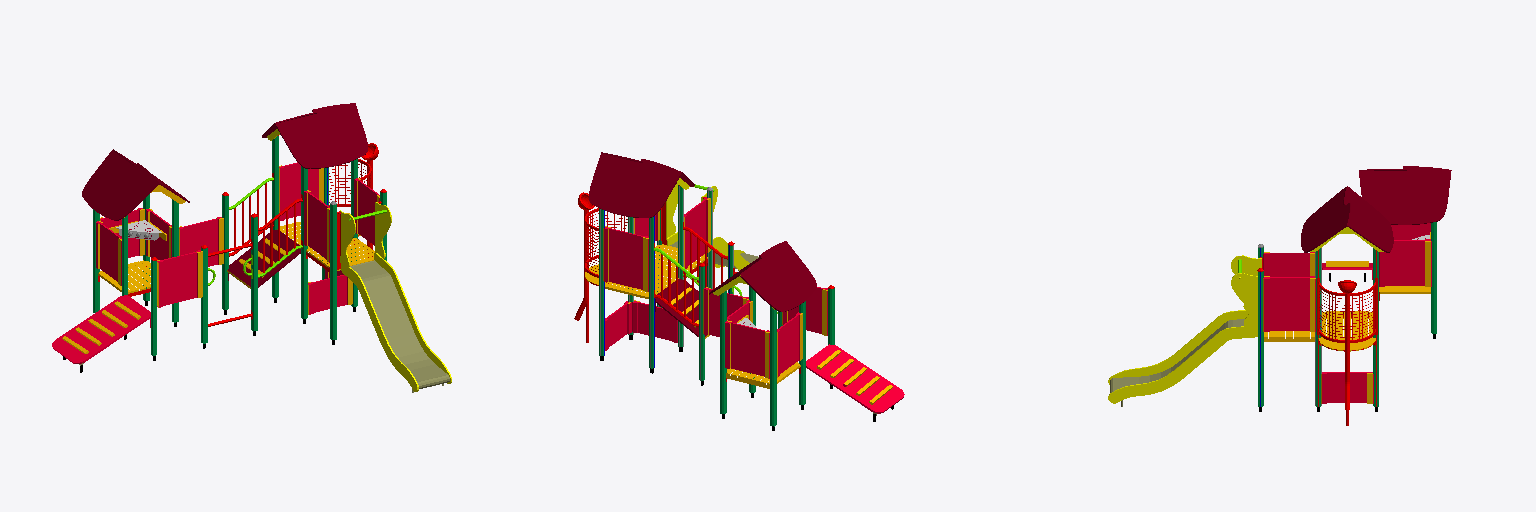
The model's file is playground.obj.
The picture shows the model from 3 angles: view 1: azimuth 30°, elevation 25°; view 2: azimuth 150°, elevation 25°; view 3: azimuth 270°, elevation 25°; orthographic projection.
Visible parts, largest first — view 1: Mesh12, Mesh115, Mesh34, Mesh17, Mesh16, Mesh49, Mesh13, Mesh46, Mesh86, Mesh24, Mesh94, Mesh111 (+13 smaller); view 2: Mesh114, Mesh34, Mesh17, Mesh49, Mesh18, Mesh86, Mesh24, Mesh94, Mesh16, Mesh46, Mesh13, Mesh93 (+8 smaller); view 3: Mesh53, Mesh12, Mesh111, Mesh14, Mesh115, Mesh114, Mesh93, Mesh51, Mesh86, Mesh65, Mesh44, Mesh43 (+2 smaller).
Part boxes in pixels (x1,y1,x2,y2): Mesh12: (341,253,451,391); Mesh115: (275,103,367,168); Mesh34: (52,295,150,363); Mesh17: (82,150,159,220); Mesh16: (157,250,202,307); Mesh49: (279,162,323,220); Mesh13: (179,217,223,266); Mesh46: (228,230,300,287); Mesh86: (304,190,329,262); Mesh24: (96,221,121,285); Mesh94: (308,275,352,314); Mesh111: (354,178,379,245); Mesh114: (589,153,681,217); Mesh34: (806,344,904,413); Mesh17: (740,241,816,311); Mesh49: (603,226,648,291); Mesh18: (725,320,769,378); Mesh86: (684,197,710,268); Mesh24: (777,312,802,377); Mesh94: (632,300,677,342); Mesh16: (782,287,827,335); Mesh46: (655,279,706,336); Mesh13: (703,287,748,336); Mesh93: (605,301,631,350); Mesh53: (1359,166,1451,224); Mesh12: (1108,310,1257,403); Mesh111: (1263,276,1315,331); Mesh14: (1379,239,1431,286); Mesh115: (1301,187,1350,252); Mesh114: (1343,186,1393,252); Mesh93: (1321,372,1373,403); Mesh51: (1317,250,1377,406); Mesh86: (1263,252,1314,276); Mesh65: (1231,273,1257,328); Mesh44: (1322,312,1372,336); Mesh43: (1345,293,1349,425).
Size of the model in its own units: 4.69 by 2.76 by 4.37.